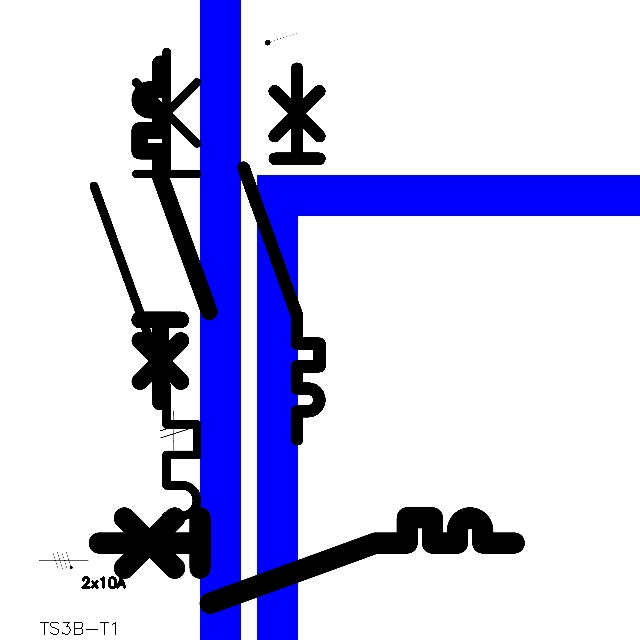interruptor_termomagnetico: (81, 39, 210, 567), (88, 507, 525, 614), (234, 59, 329, 449), (131, 55, 218, 411)
